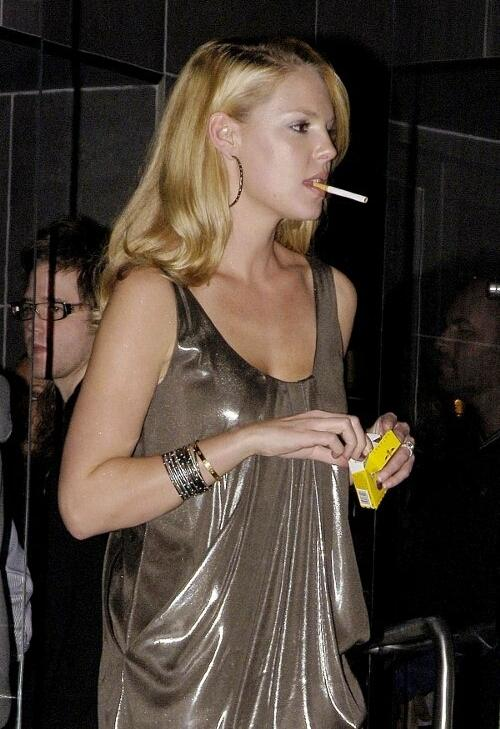person: (56, 40, 417, 729)
